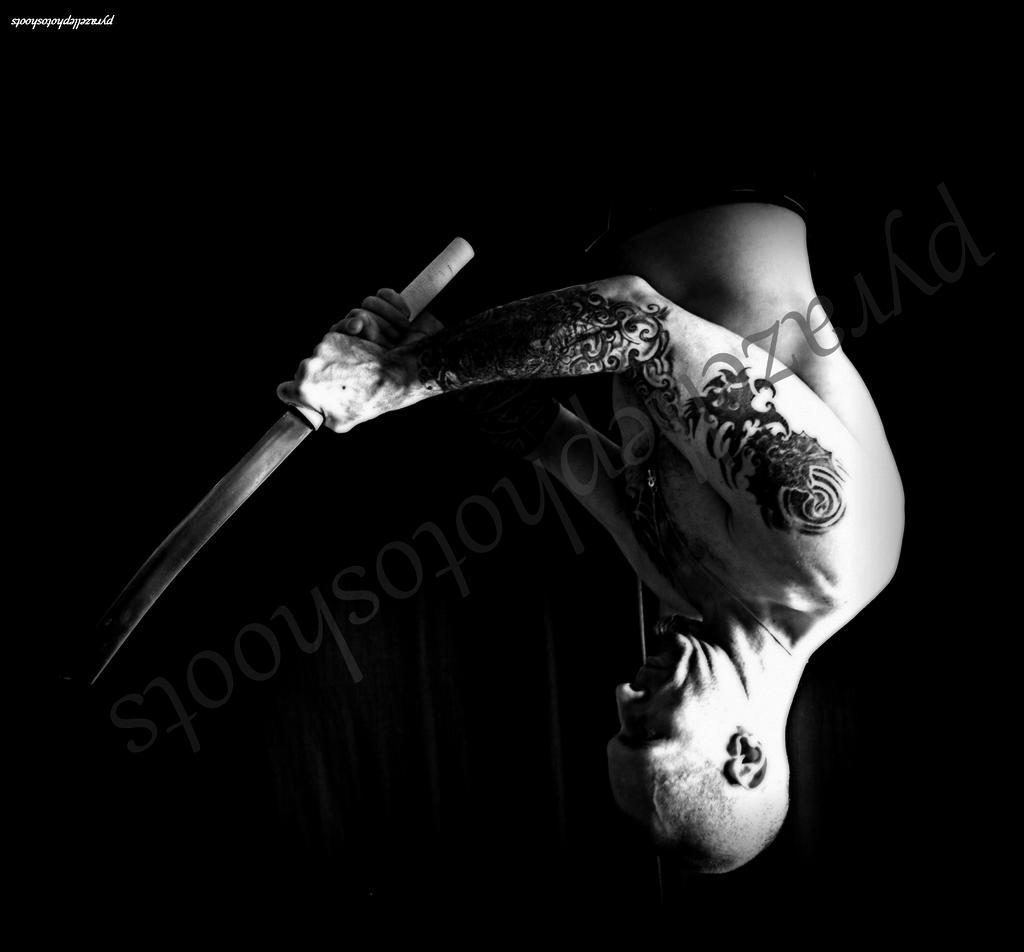melee: (60, 226, 482, 705)
